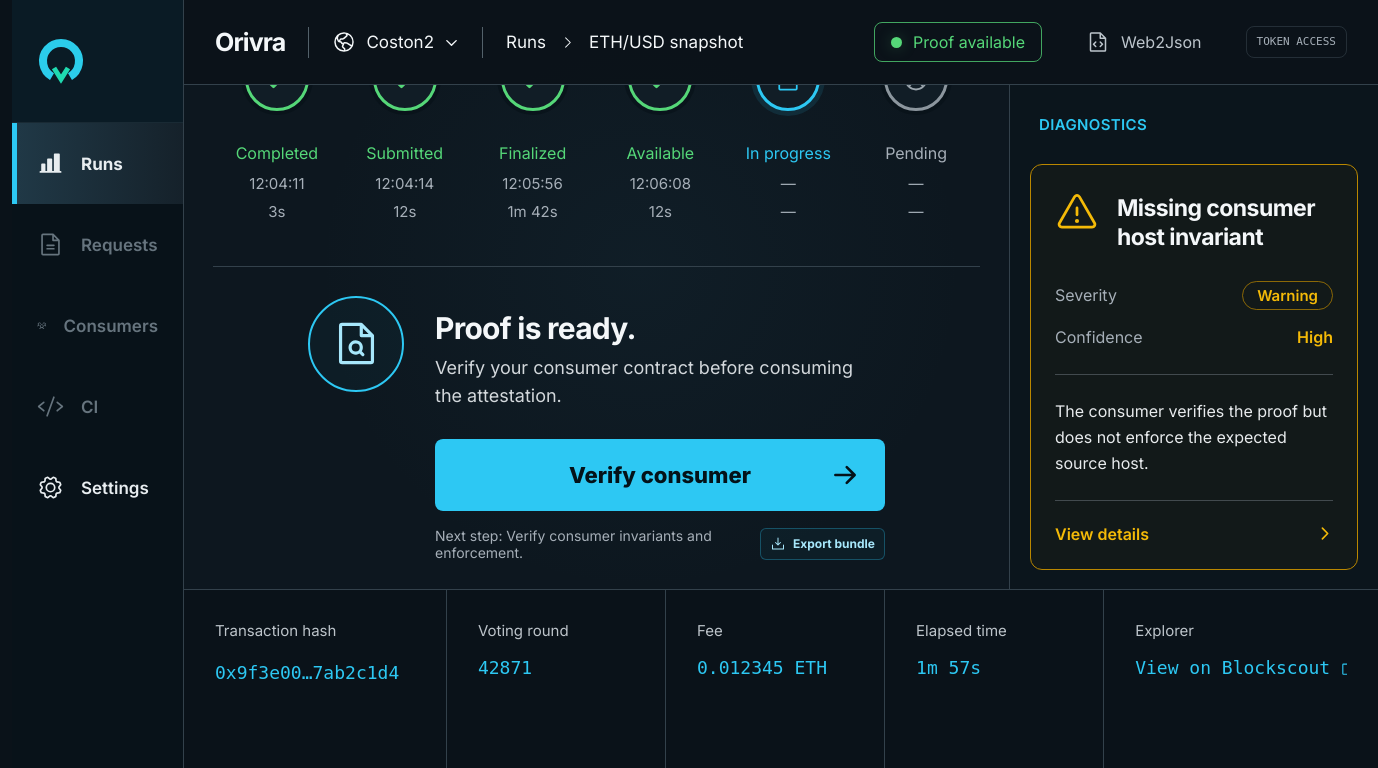
Test: Run Cockpit bundle and session hardening › rejects a non-byte-identical replay instead of offering a download
(page scrolled)
Click the button "Export bundle" at [822, 544], box [760,528,885,560]
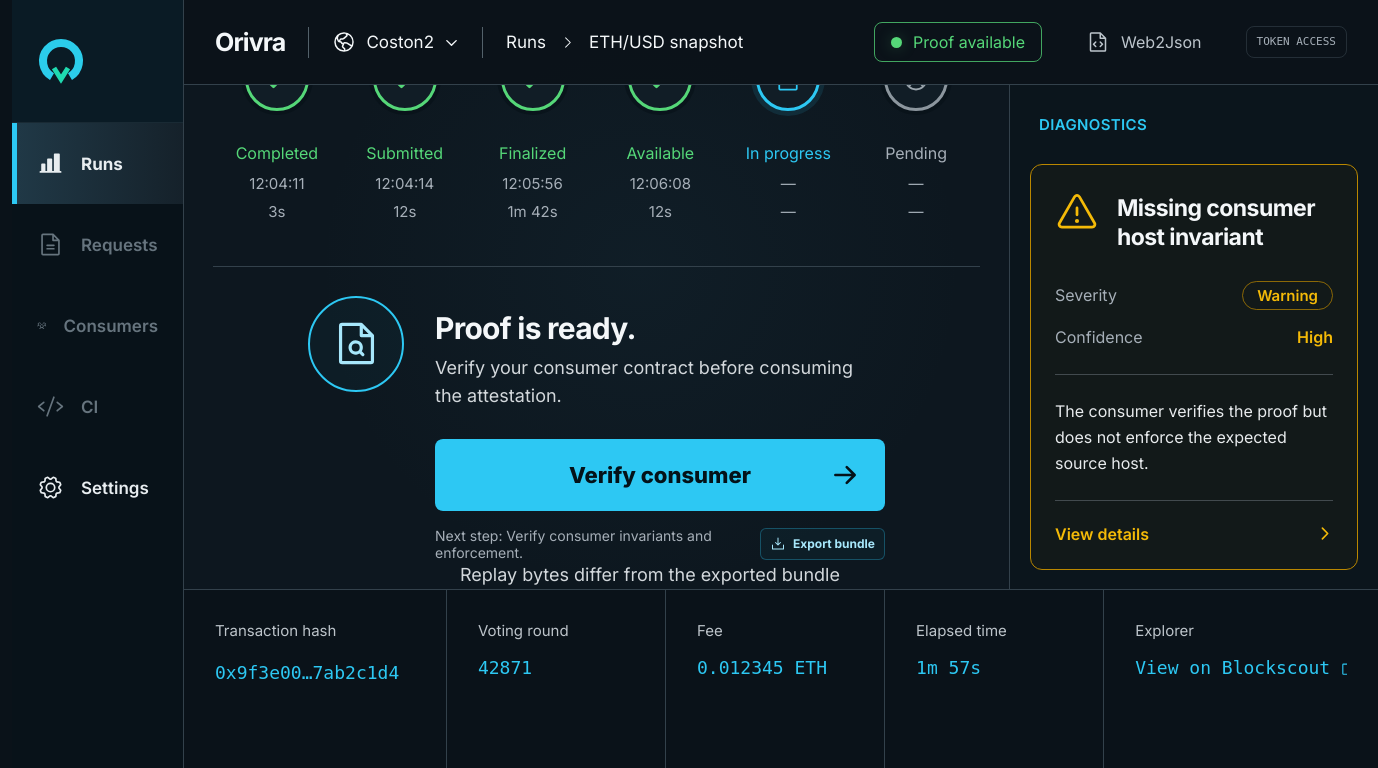
Check: the message shows "bytes differ", box [460,564,840,585]
